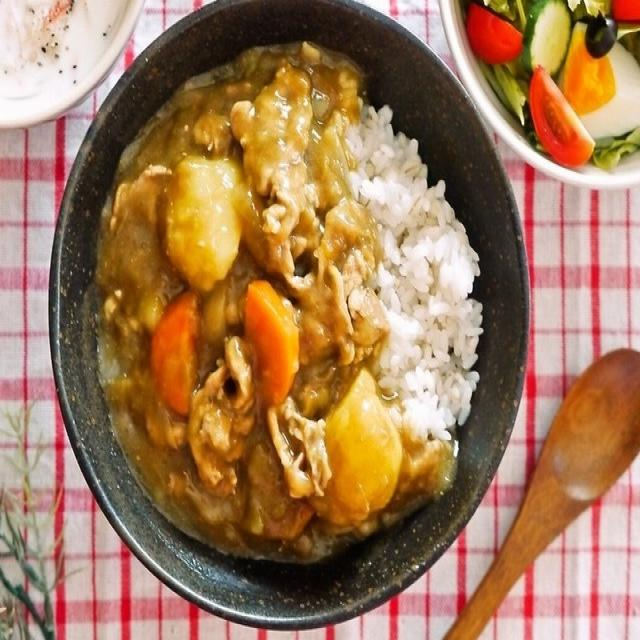Wet: (94, 41, 486, 570)
